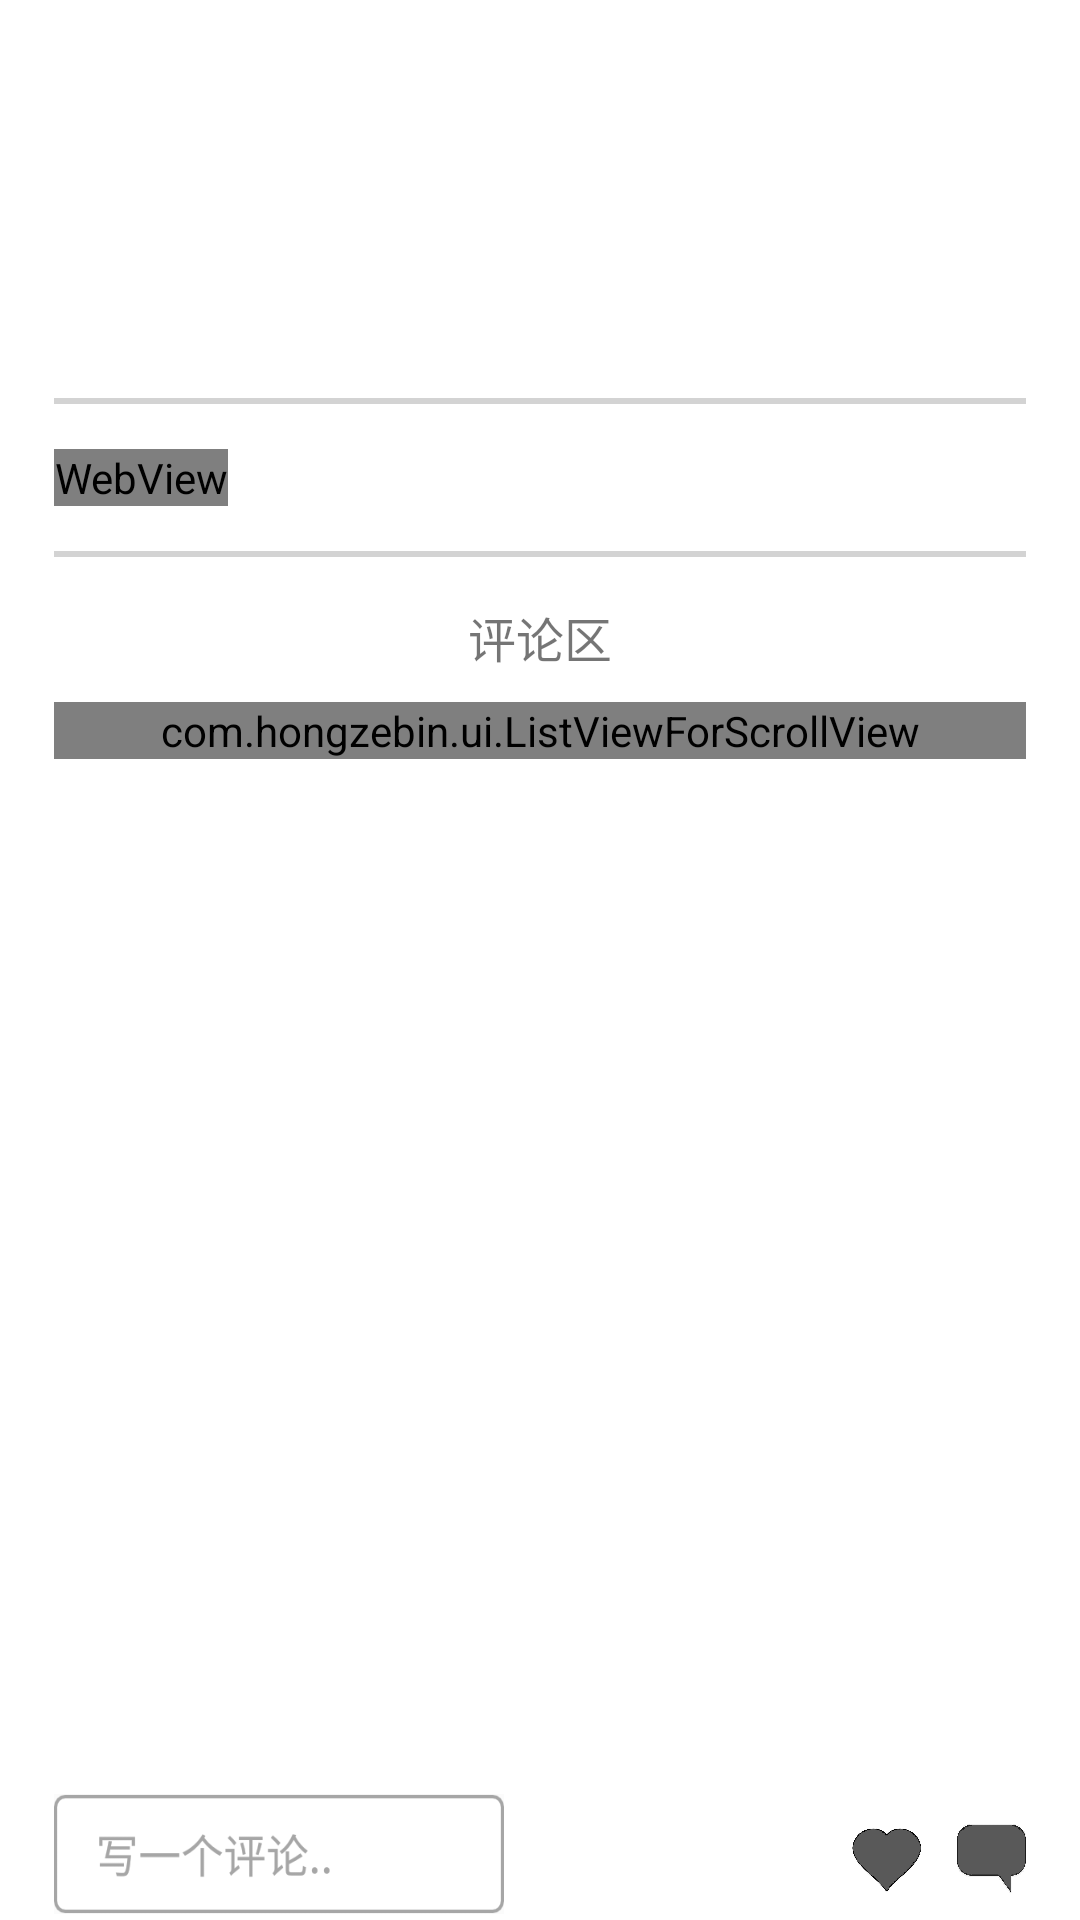

Icon bounding boxes for this 1080x1920 phone screenshot, format (x1, y1, x2, y2):
collect: (852, 1828, 921, 1891)
pinlun: (957, 1824, 1026, 1893)
